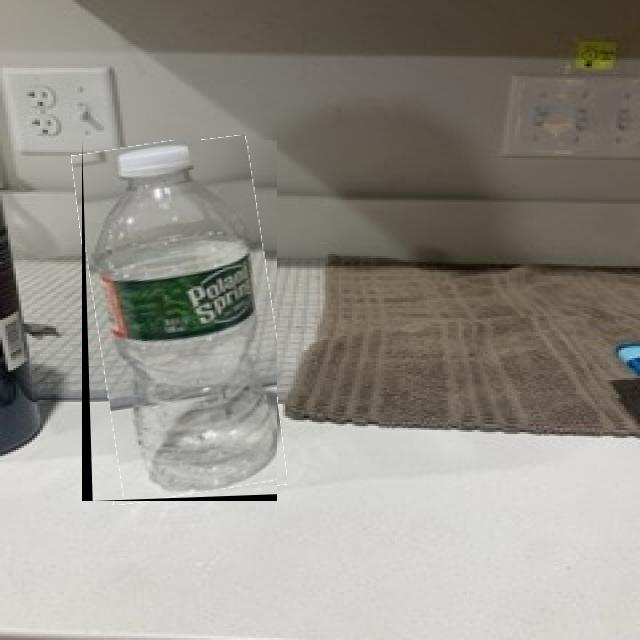water_bottle: (82, 140, 277, 501)
